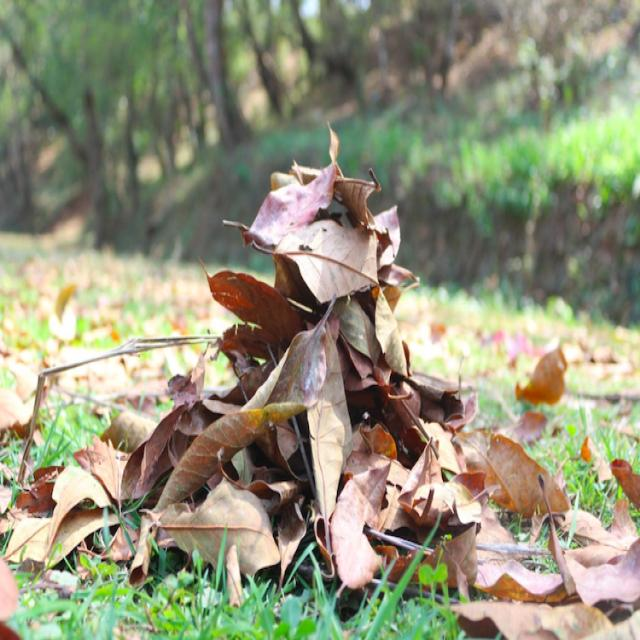Organik: (45, 127, 632, 640)
